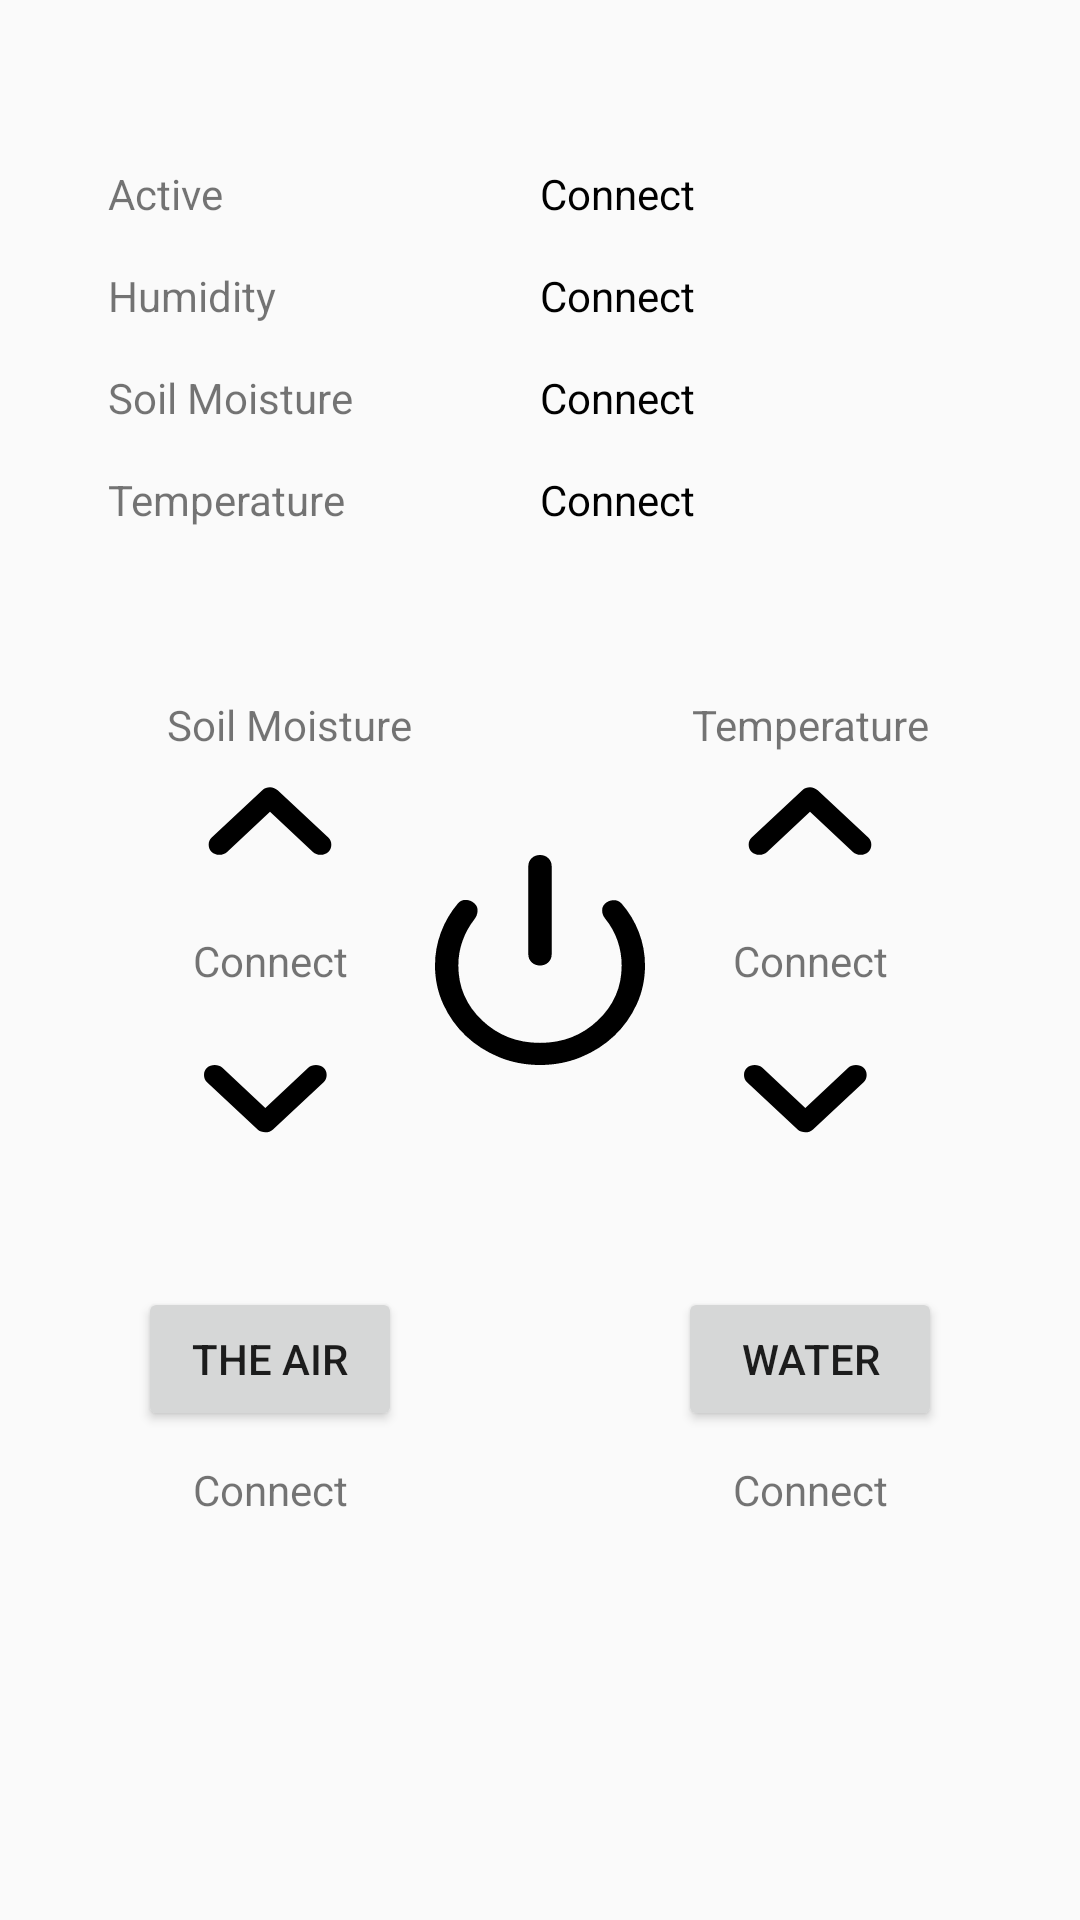

Icon click points for this 1080 × 1920 phone screenshot, format (x=x, y=y):
bottom: (x=265, y=1099), (x=805, y=1099)
on off: (x=540, y=960)
uppp: (x=270, y=821), (x=810, y=821)
